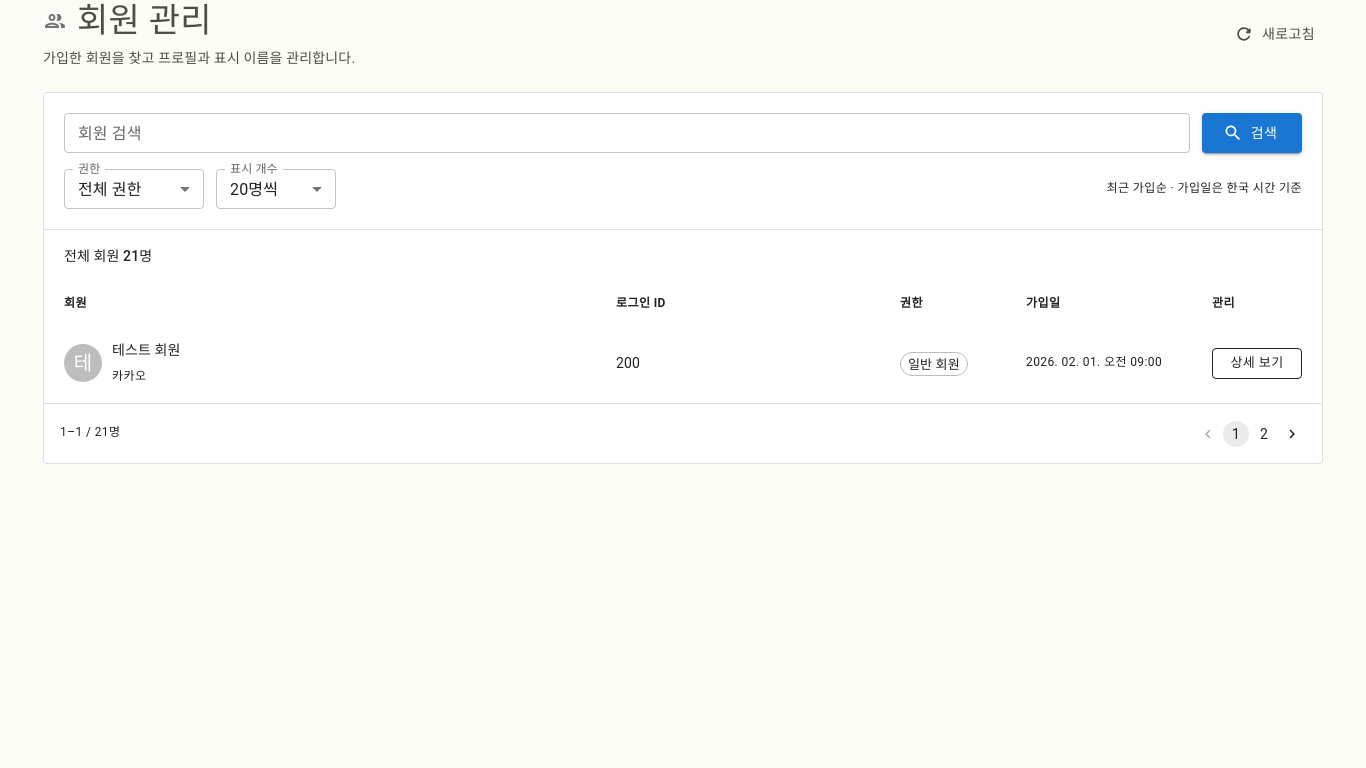
Test case: member management › keeps failed edits open and supports retrying with a cleared name
Click the button with aria-label "테스트 회원 상세 보기" at {"x": 1257, "y": 363}, box [1212,348,1302,379]
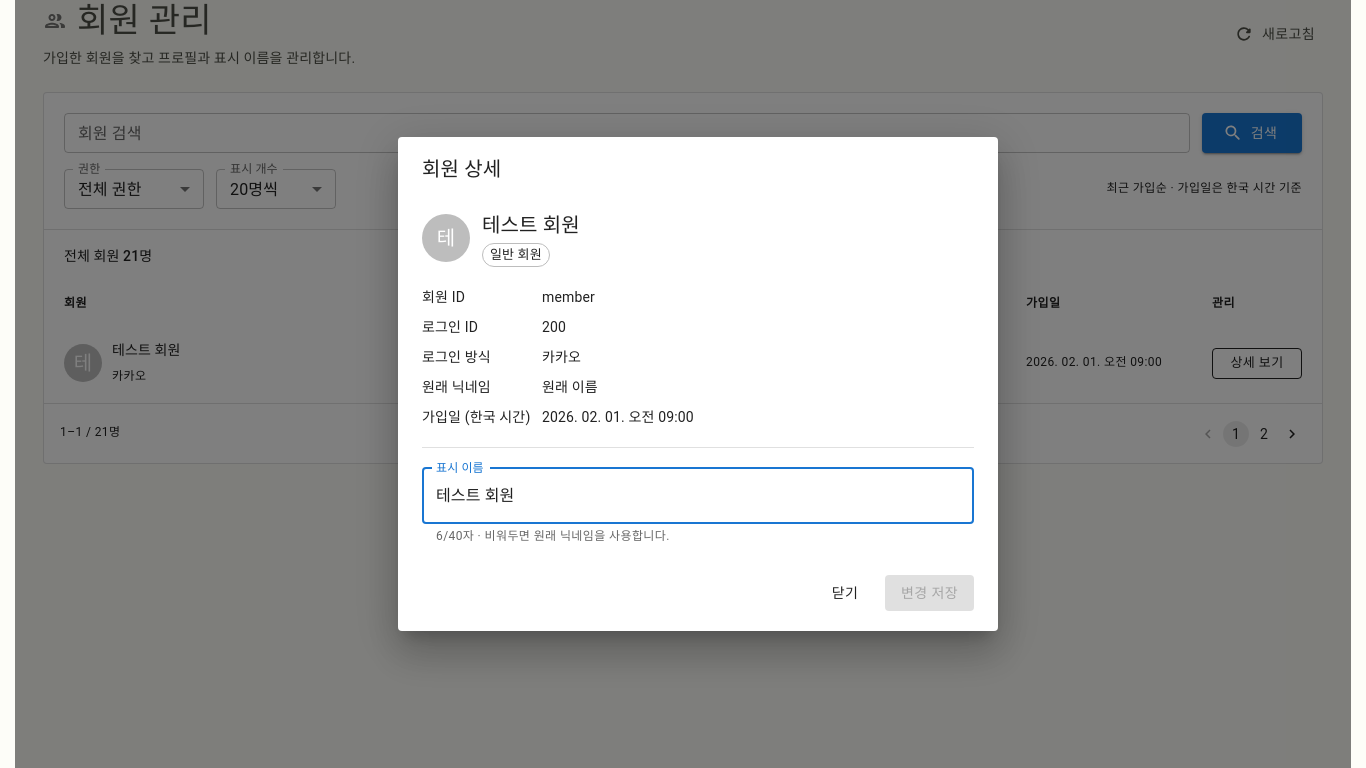
Clear the field labelled "표시 이름" at {"x": 698, "y": 496}, box [422,468,974,524]
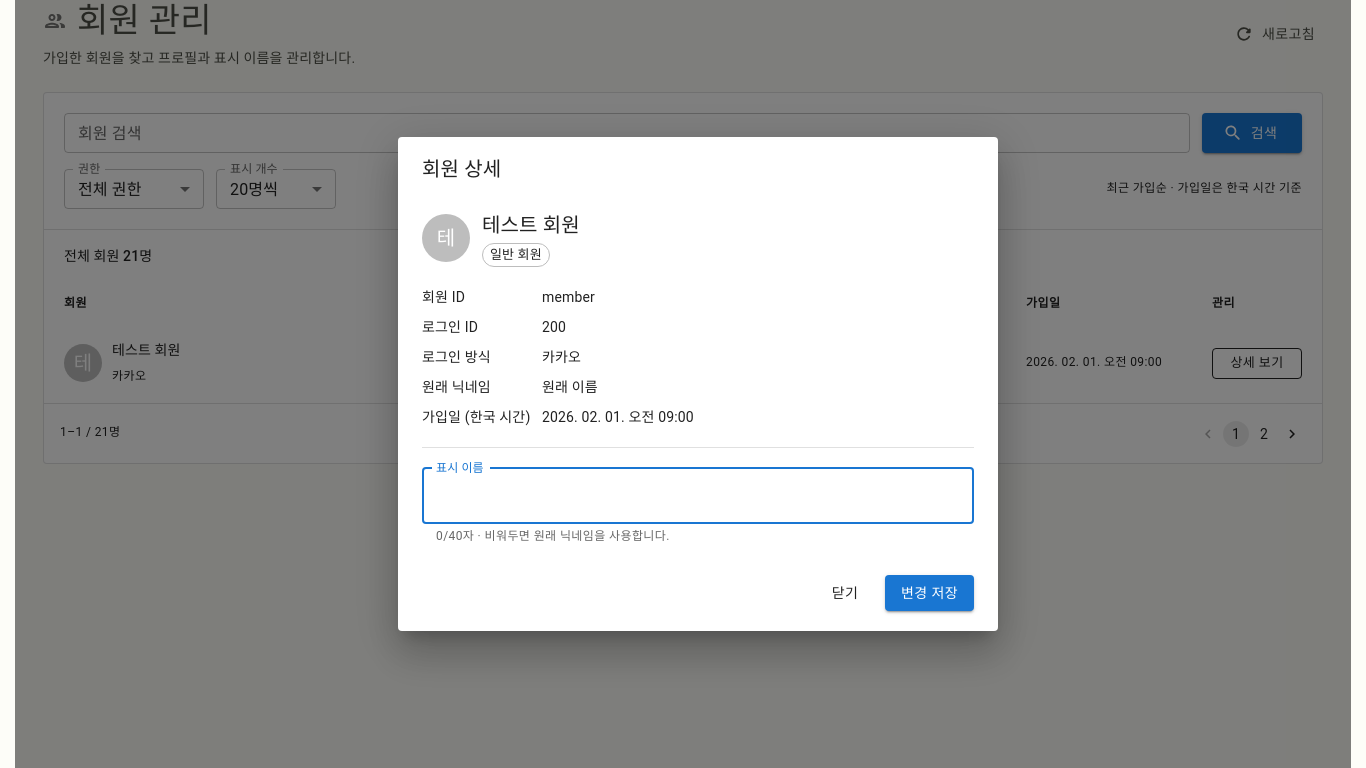
Click the button "변경 저장" at {"x": 930, "y": 593}, box [885,575,974,611]
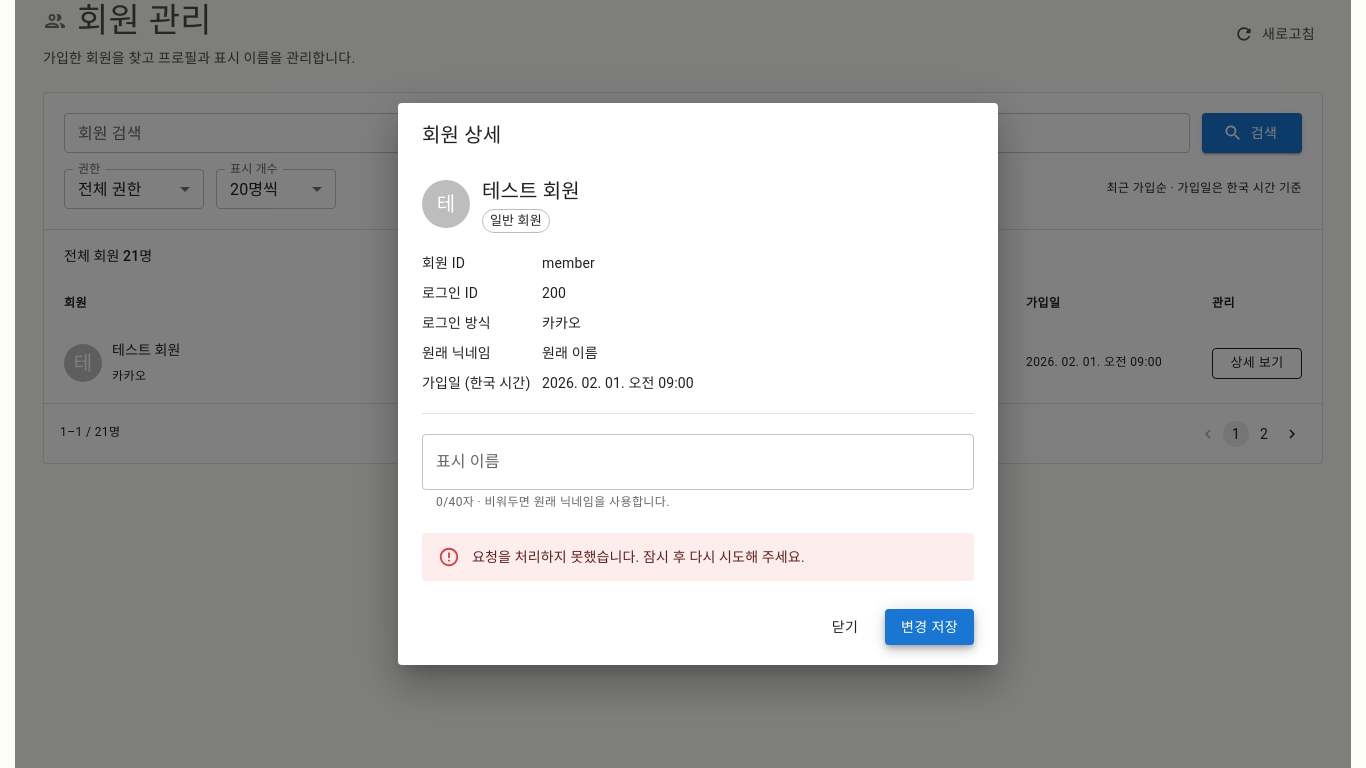
Expected: the dialog is shown, [398,103,998,665]
Expected: the text "요청을 처리하지 못했습니다. 잠시 후 다시 시도해 주세요." is shown, [472,549,805,565]
Click the button "변경 저장" at {"x": 930, "y": 627}, box [885,609,974,645]
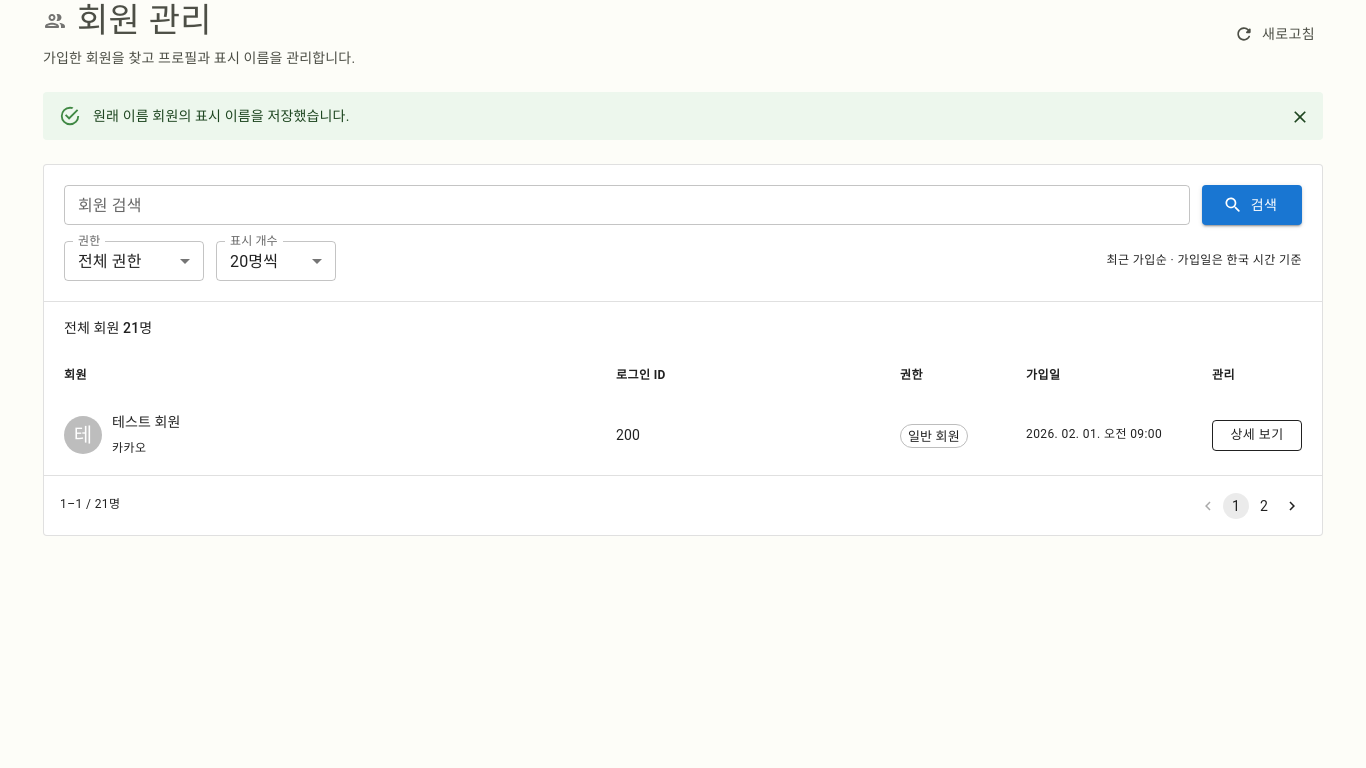
Expected: the text "원래 이름 회원의 표시 이름을 저장했습니다." is shown, [93,108,350,124]
